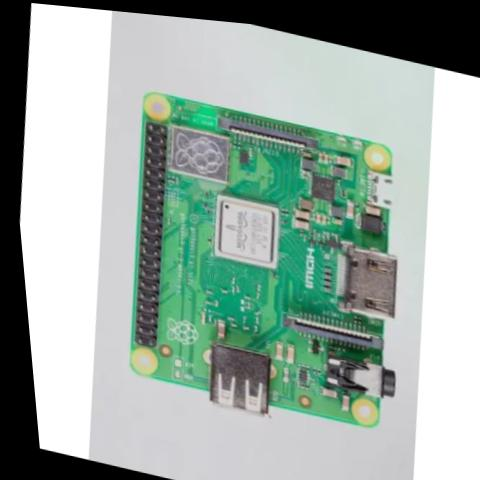Raspberry-Pi-3-Model-A-: (92, 76, 433, 449)
